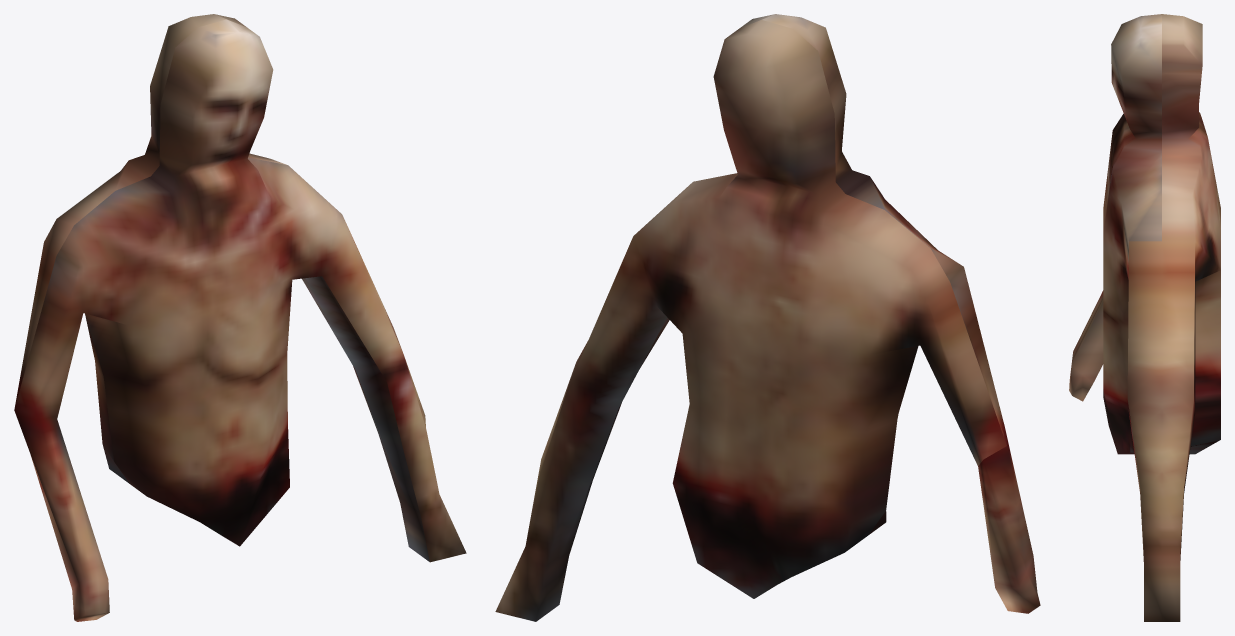
The model's file is human_meat_1.FBX.
The picture shows the model from 3 angles, left to right: view 1: azimuth 30°, elevation 25°; view 2: azimuth 150°, elevation 25°; view 3: azimuth 270°, elevation 25°; orthographic projection. The views are drawn at different scales.
Visible parts, largest first — view 1: human_meat_1; view 2: human_meat_1; view 3: human_meat_1.
Part boxes in pixels (x1,y1,x2,y2): human_meat_1: (14, 14, 466, 621); human_meat_1: (495, 14, 1040, 621); human_meat_1: (1069, 14, 1220, 621).
Size of the model in its own units: 81.37 by 101 by 27.88.
